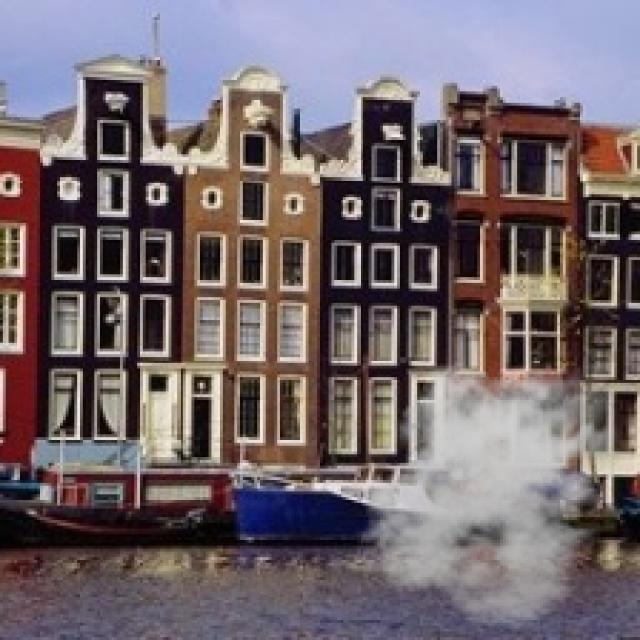Smoke: (357, 354, 632, 629)
